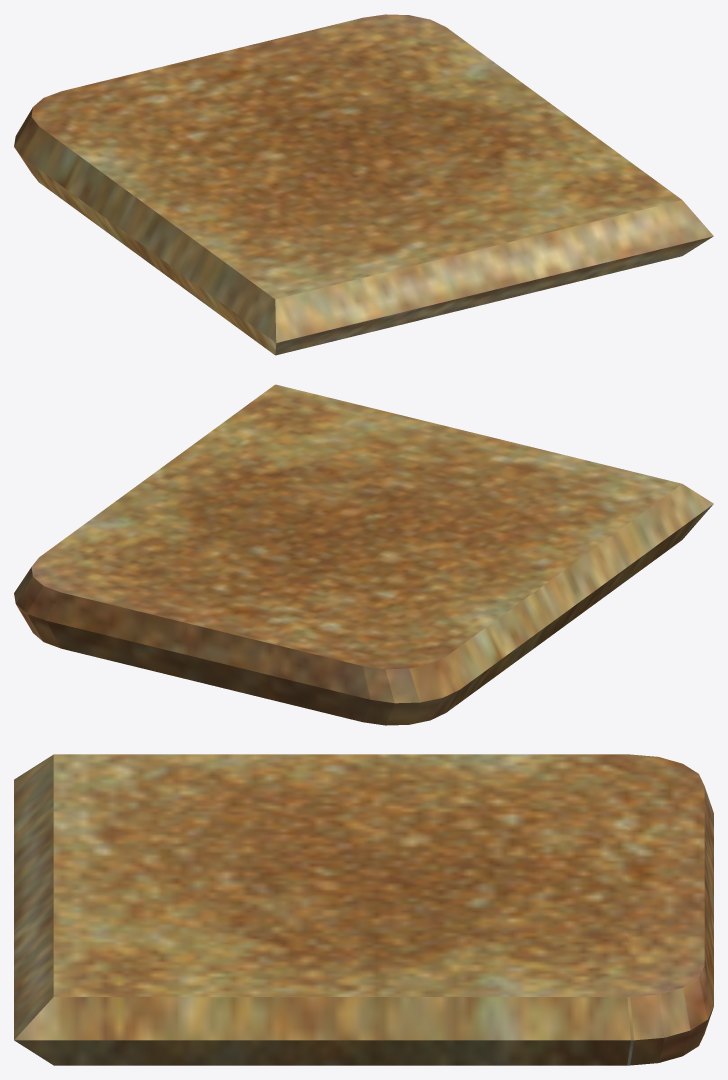
File: toasted_toast.obj
The picture shows the model from 3 angles, top to bottom: view 1: azimuth 30°, elevation 25°; view 2: azimuth 150°, elevation 25°; view 3: azimuth 270°, elevation 25°; orthographic projection. The views are drawn at different scales.
Visible parts, largest first — view 1: toasted_toast; view 2: toasted_toast; view 3: toasted_toast.
Part boxes in pixels (x1,y1,x2,y2): toasted_toast: (14,14,713,355); toasted_toast: (14,384,713,725); toasted_toast: (14,754,713,1065).
Bounding box in the file's own units: 0.1552 × 0.019 × 0.1761.
